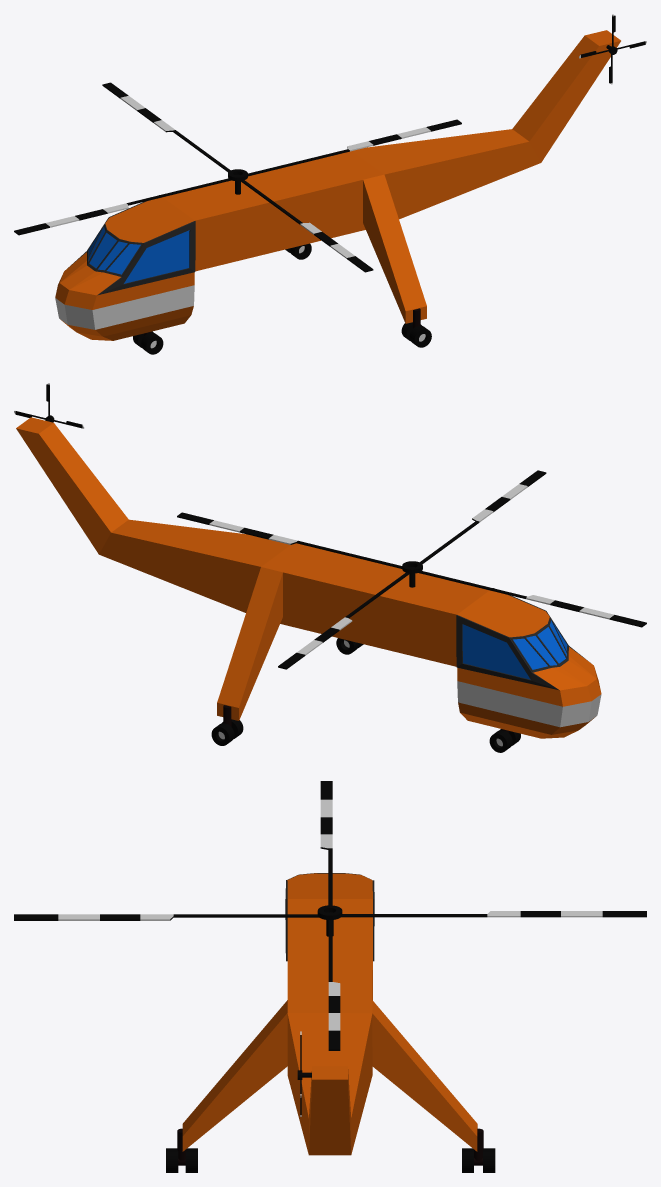
File: HeavyHeli.obj
3 views of the same model, one above another, from view 1: azimuth 30°, elevation 25°; view 2: azimuth 150°, elevation 25°; view 3: azimuth 270°, elevation 25° (orthographic). The views are drawn at different scales.
Visible parts, largest first — view 1: Cube, Plane.008, Plane.001, Plane.002, Plane.003; view 2: Cube, Plane.008, Plane.001, Plane.003, Plane.002; view 3: Cube, Plane.003, Plane.002, Plane.001, Plane.008.
Part boxes in pixels (x1,y1,x2,y2): Cube: [55, 30, 620, 340]; Plane.008: [14, 178, 231, 235]; Plane.001: [248, 119, 461, 176]; Plane.002: [240, 180, 373, 272]; Plane.003: [102, 82, 230, 172]; Cube: [16, 417, 601, 738]; Plane.008: [418, 571, 646, 627]; Plane.001: [177, 512, 402, 568]; Plane.003: [278, 572, 409, 669]; Plane.002: [420, 470, 546, 563]; Cube: [182, 873, 477, 1155]; Plane.003: [341, 911, 646, 917]; Plane.002: [14, 914, 318, 920]; Plane.001: [328, 920, 340, 1050]; Plane.008: [320, 781, 332, 905].
Bounding box in the file's own units: 71.79 × 25.8 × 51.55.
